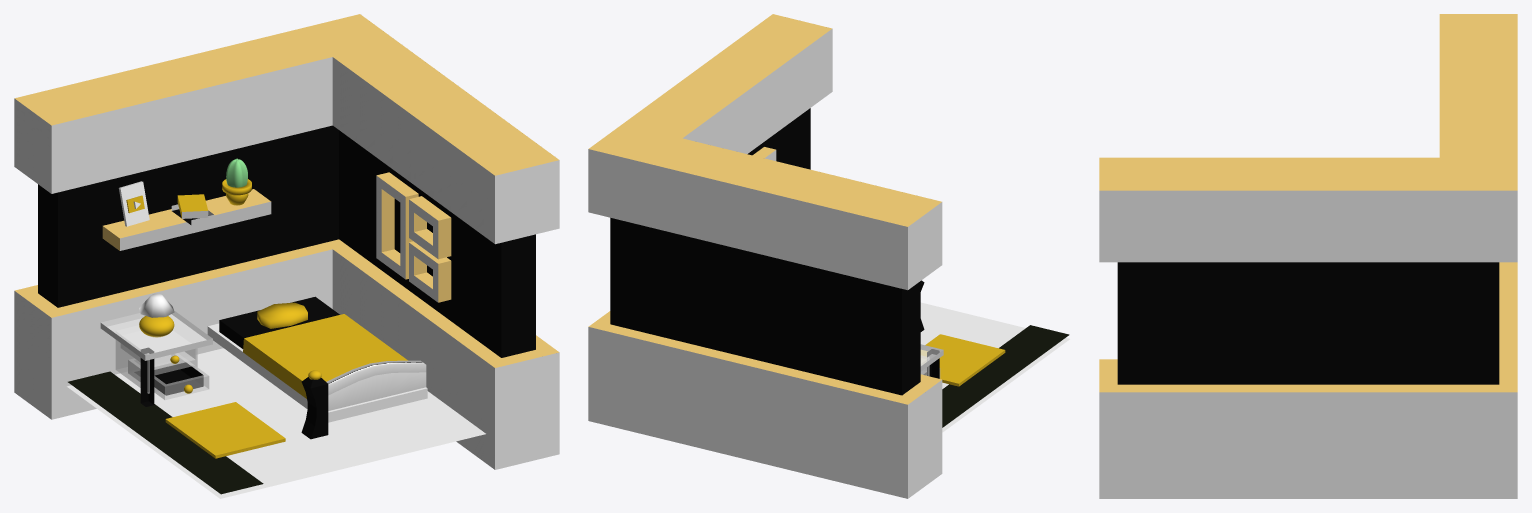
The model's file is 3droom.gltf.
The picture shows the model from 3 angles, left to right: view 1: azimuth 30°, elevation 25°; view 2: azimuth 150°, elevation 25°; view 3: azimuth 270°, elevation 25°; orthographic projection. The views are drawn at different scales.
Visible parts, largest first — view 1: Cube, Plane.003, Plane.010, Cube.001, Plane.004, Plane.012, Plane.014, Cube.003, Plane.007, Plane.006, Plane.009, Plane.008 (+5 smaller); view 2: Cube, Plane.004, Plane.003, Plane.014; view 3: Cube.
Part boxes in pixels (x1,y1,x2,y2): Cube: (14, 14, 559, 469); Plane.003: (67, 348, 485, 498); Plane.010: (243, 314, 407, 398); Cube.001: (376, 172, 451, 302); Plane.004: (68, 371, 263, 494); Plane.012: (100, 310, 212, 400); Plane.014: (165, 402, 285, 458); Cube.003: (102, 189, 271, 250); Plane.007: (326, 360, 426, 410); Plane.006: (207, 323, 427, 422); Plane.009: (219, 296, 339, 348); Plane.008: (301, 377, 328, 439); Cube: (588, 14, 942, 498); Plane.004: (942, 325, 1069, 427); Plane.003: (920, 302, 1069, 432); Plane.014: (921, 334, 1005, 386); Cube: (1099, 14, 1517, 498).
Size of what is drawn, in the model's own units: 2.46 by 2 by 2.46.
